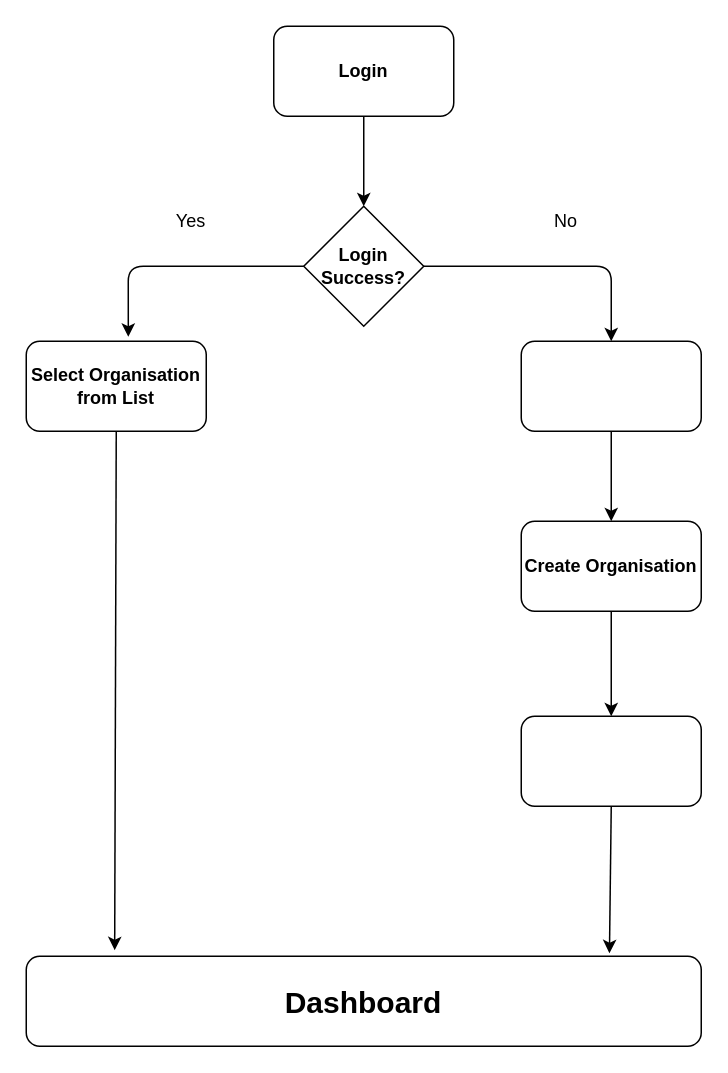
Some shapes in this 728 by 1073 pixel diagram are drawn without their labels. The shapes that lost their labels are listed below. From the top down, each one's box as (x1, y1, x2, y2) in pixels, then its label:
(520, 340, 701, 431): Signup
(520, 715, 701, 806): Invite User
